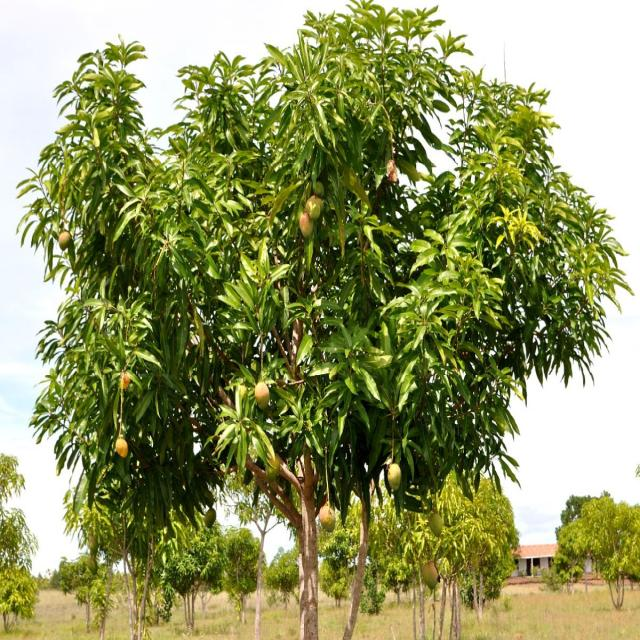Mango-Tree: (24, 6, 631, 629)
